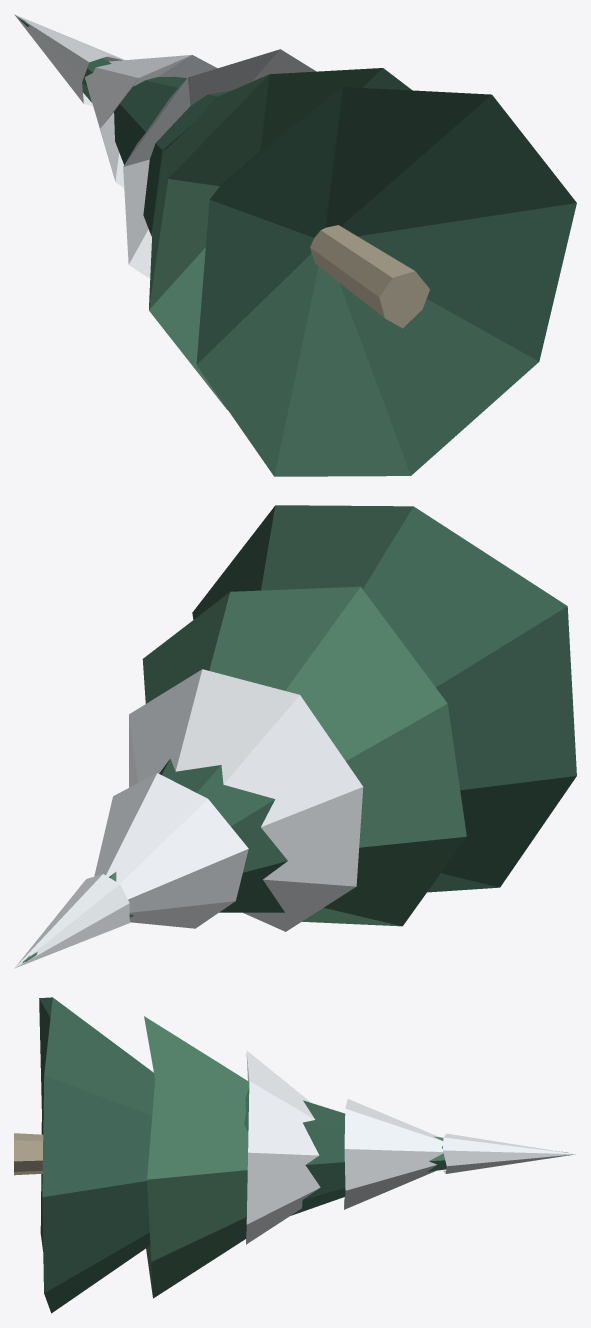
The model's file is TreeConiferC4.fbx.
3 views of the same model, one above another, from view 1: azimuth 30°, elevation 25°; view 2: azimuth 150°, elevation 25°; view 3: azimuth 270°, elevation 25° (orthographic). The views are drawn at different scales.
Parts seen in each view (by area): view 1: M_Tree_Pine_Dark, M_Tree_Pine_Mid, M_Tree_Snow, M_Tree_PaleWood; view 2: M_Tree_Pine_Dark, M_Tree_Snow, M_Tree_Pine_Mid; view 3: M_Tree_Pine_Dark, M_Tree_Pine_Mid, M_Tree_Snow, M_Tree_PaleWood.
Boxes of the visible parts, x1,y1,x2,y2 form: M_Tree_Pine_Dark: [114, 76, 576, 476]; M_Tree_Pine_Mid: [18, 17, 411, 409]; M_Tree_Snow: [14, 14, 316, 278]; M_Tree_PaleWood: [310, 225, 429, 328]; M_Tree_Pine_Dark: [159, 505, 576, 912]; M_Tree_Snow: [14, 669, 363, 968]; M_Tree_Pine_Mid: [22, 586, 466, 962]; M_Tree_Pine_Dark: [39, 997, 345, 1313]; M_Tree_Pine_Mid: [144, 1016, 567, 1298]; M_Tree_Snow: [246, 1050, 575, 1244]; M_Tree_PaleWood: [14, 1133, 43, 1175].
Bounding box in the file's own units: 2005 × 2036 × 3551.
